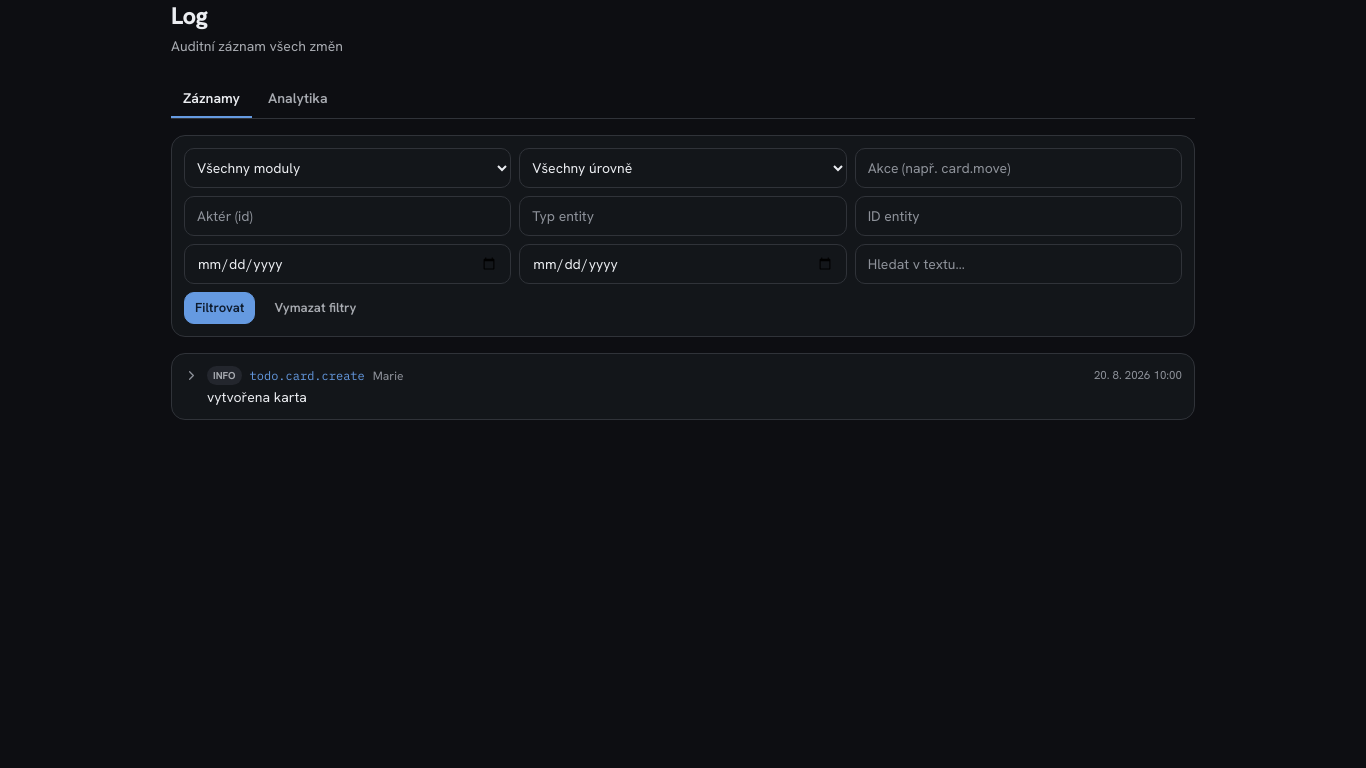
Test case: LogPage › offers a retry when the entity timeline fails, never the empty history
The image size is (1366, 768).
Step 1. Click the button "vytvořena karta" → {"x": 224, "y": 376}, box [172,354,1194,419]
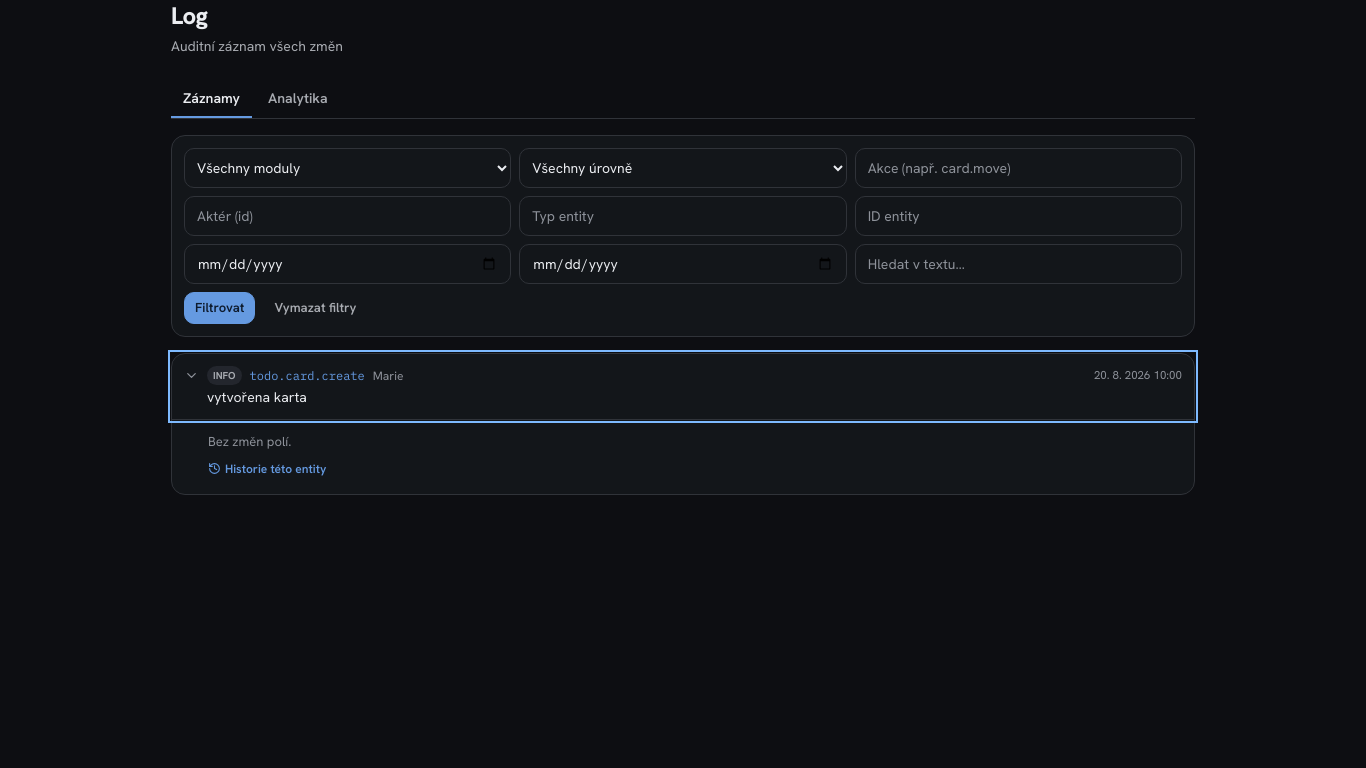
Step 2. Click the button "Historie této entity" → {"x": 267, "y": 468}, box [208,460,326,478]
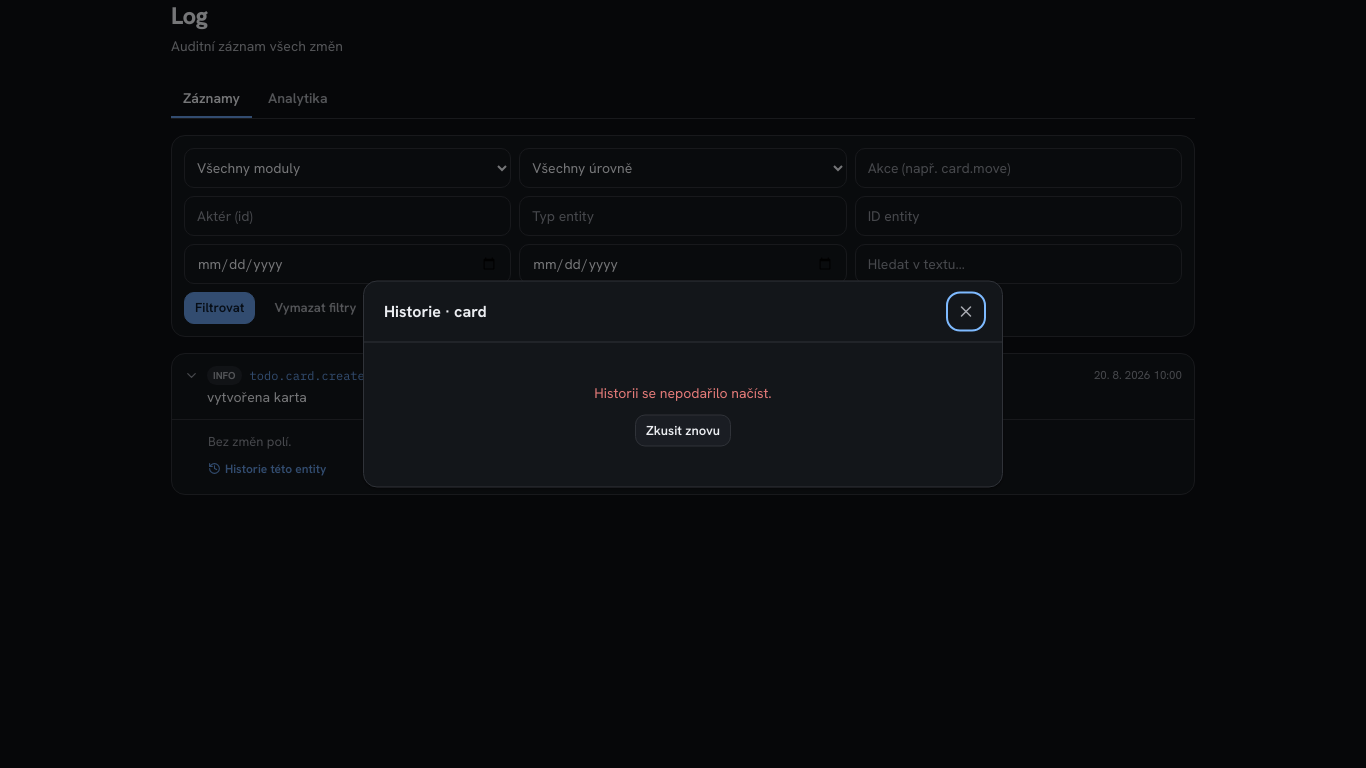
Expected: the button "Zkusit znovu" is shown, [635,414,731,446]
